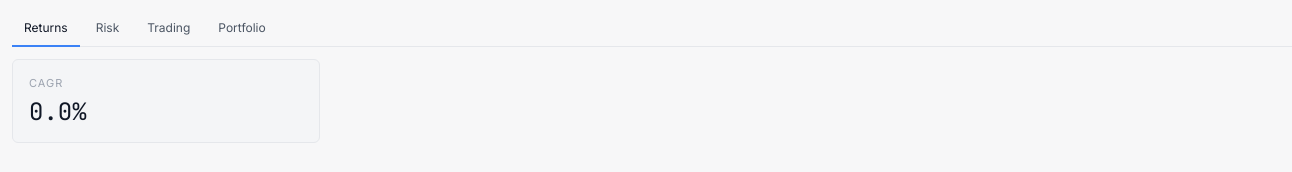
Test: KpiCards › total trades renders as integer
Click the tab "Trading". click: click(169, 29)
box: [135, 12, 202, 47]
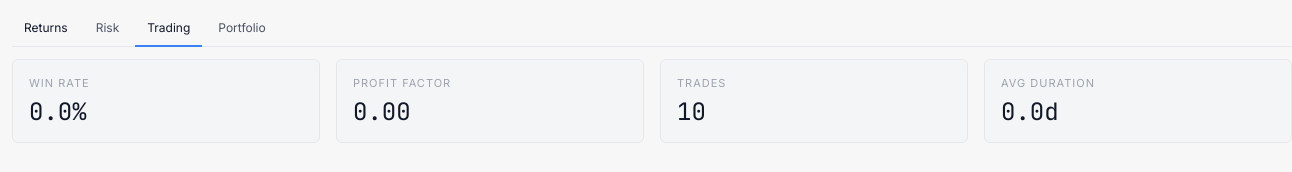
Expected: the text "Trades" is shown, [677, 76, 726, 90]
Expected: the text "10" is shown, [677, 96, 706, 127]
